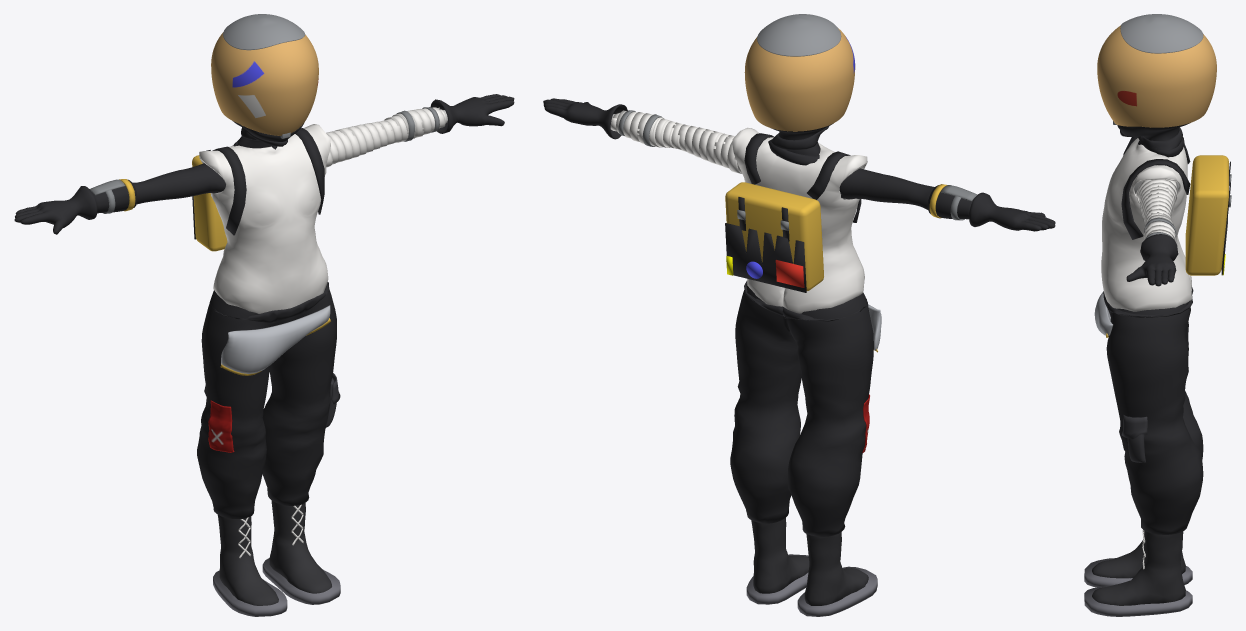
Rendered from Chara_VillanTest.fbx.
3 renders of one model, left to right at view 1: azimuth 30°, elevation 25°; view 2: azimuth 150°, elevation 25°; view 3: azimuth 270°, elevation 25°, orthographic. The views are drawn at different scales.
Visible parts, largest first — view 1: Costume_Pants, Costume_Top, Costume_Boots, Costume_Dome, Costume_Pouch, Costume_WrapL, Costume_SleeveR, Costume_DomeCap, Costume_GloveR, Costume_Straps, Costume_GloveL, Costume_Bag (+4 smaller); view 2: Costume_Pants, Costume_Top, Costume_Bag, Costume_Dome, Costume_Boots, Costume_WrapL, Costume_DomeCap, Costume_SleeveR, Costume_GloveR, Costume_GloveL, Costume_Collar, Costume_Straps (+1 smaller); view 3: Costume_Pants, Costume_Dome, Costume_Top, Costume_Boots, Costume_Bag, Costume_DomeCap, Costume_WrapL, Costume_GloveL, Costume_Collar, Costume_Straps, Costume_CargoPocket, Costume_Pouch (+1 smaller).
Boxes of the visible parts, <box> form: Costume_Pants: <box>197,287,336,518</box>; Costume_Top: <box>199,124,330,313</box>; Costume_Boots: <box>213,500,340,616</box>; Costume_Dome: <box>211,32,318,135</box>; Costume_Pouch: <box>220,305,330,375</box>; Costume_WrapL: <box>326,107,445,167</box>; Costume_SleeveR: <box>133,163,225,204</box>; Costume_DomeCap: <box>223,14,305,50</box>; Costume_GloveR: <box>14,186,97,234</box>; Costume_Straps: <box>212,128,324,235</box>; Costume_GloveL: <box>430,94,514,133</box>; Costume_Bag: <box>192,150,227,251</box>; Costume_Pants: <box>730,284,873,536</box>; Costume_Top: <box>732,127,867,313</box>; Costume_Bag: <box>725,182,823,292</box>; Costume_Dome: <box>744,28,855,131</box>; Costume_Boots: <box>746,518,877,616</box>; Costume_WrapL: <box>610,110,741,173</box>; Costume_DomeCap: <box>757,14,841,56</box>; Costume_SleeveR: <box>839,168,934,209</box>; Costume_GloveR: <box>969,192,1055,231</box>; Costume_GloveL: <box>543,98,627,139</box>; Costume_Collar: <box>768,123,833,165</box>; Costume_Straps: <box>744,133,861,222</box>; Costume_Pants: <box>1106,302,1203,534</box>; Costume_Dome: <box>1097,25,1216,127</box>; Costume_Top: <box>1101,138,1191,311</box>; Costume_Boots: <box>1084,530,1192,616</box>; Costume_Bag: <box>1185,155,1231,275</box>; Costume_DomeCap: <box>1120,14,1203,53</box>; Costume_WrapL: <box>1136,179,1177,241</box>; Costume_GloveL: <box>1126,234,1178,286</box>; Costume_Collar: <box>1117,123,1189,157</box>; Costume_Straps: <box>1121,137,1190,239</box>; Costume_CargoPocket: <box>1121,414,1147,462</box>; Costume_Pouch: <box>1094,291,1112,337</box>.
Size of the model in its own units: 163 by 175 by 40.78.
